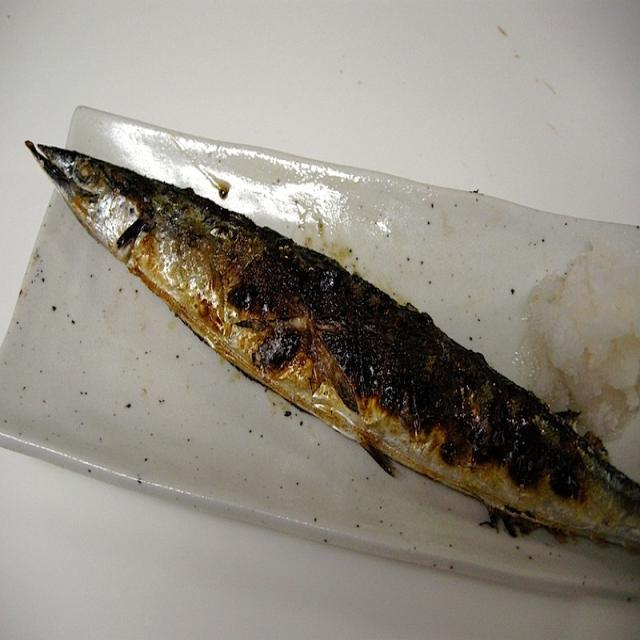熟制海鲜: (0, 128, 640, 575)
